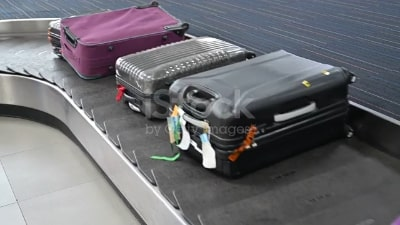baggage: (160, 49, 357, 179), (109, 35, 260, 122), (54, 2, 189, 82)
